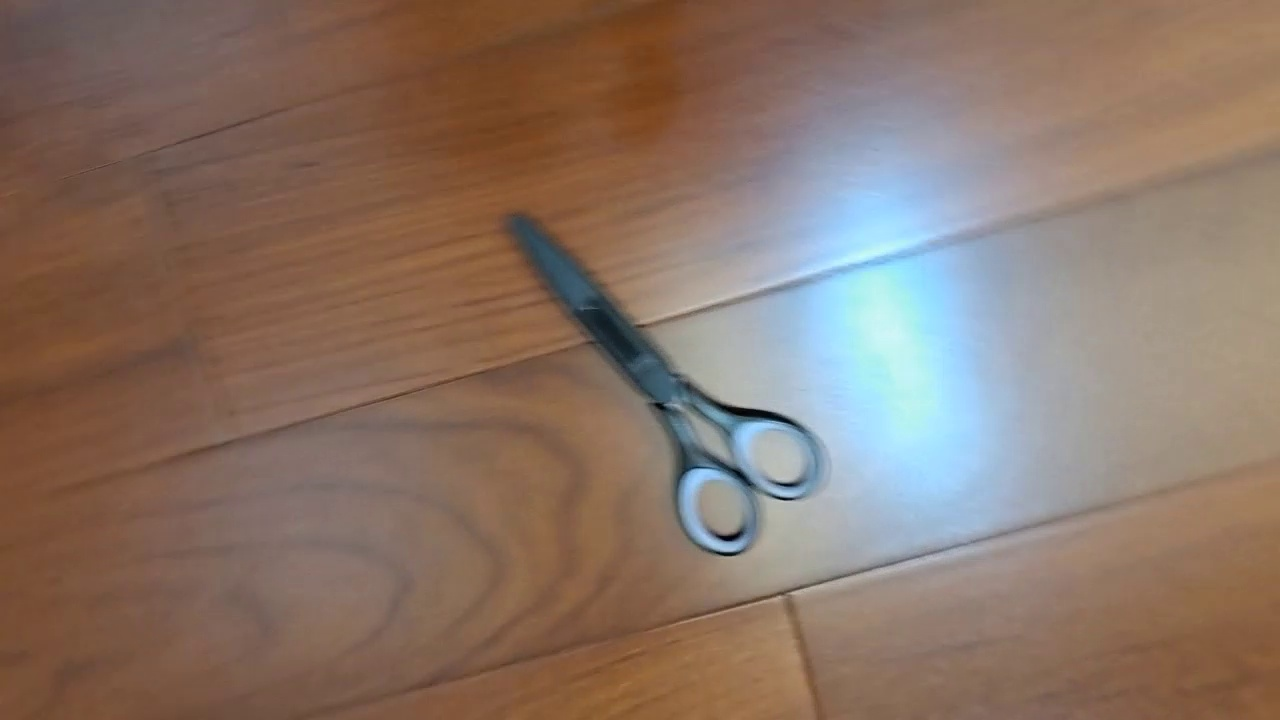scissors: (498, 205, 831, 558)
